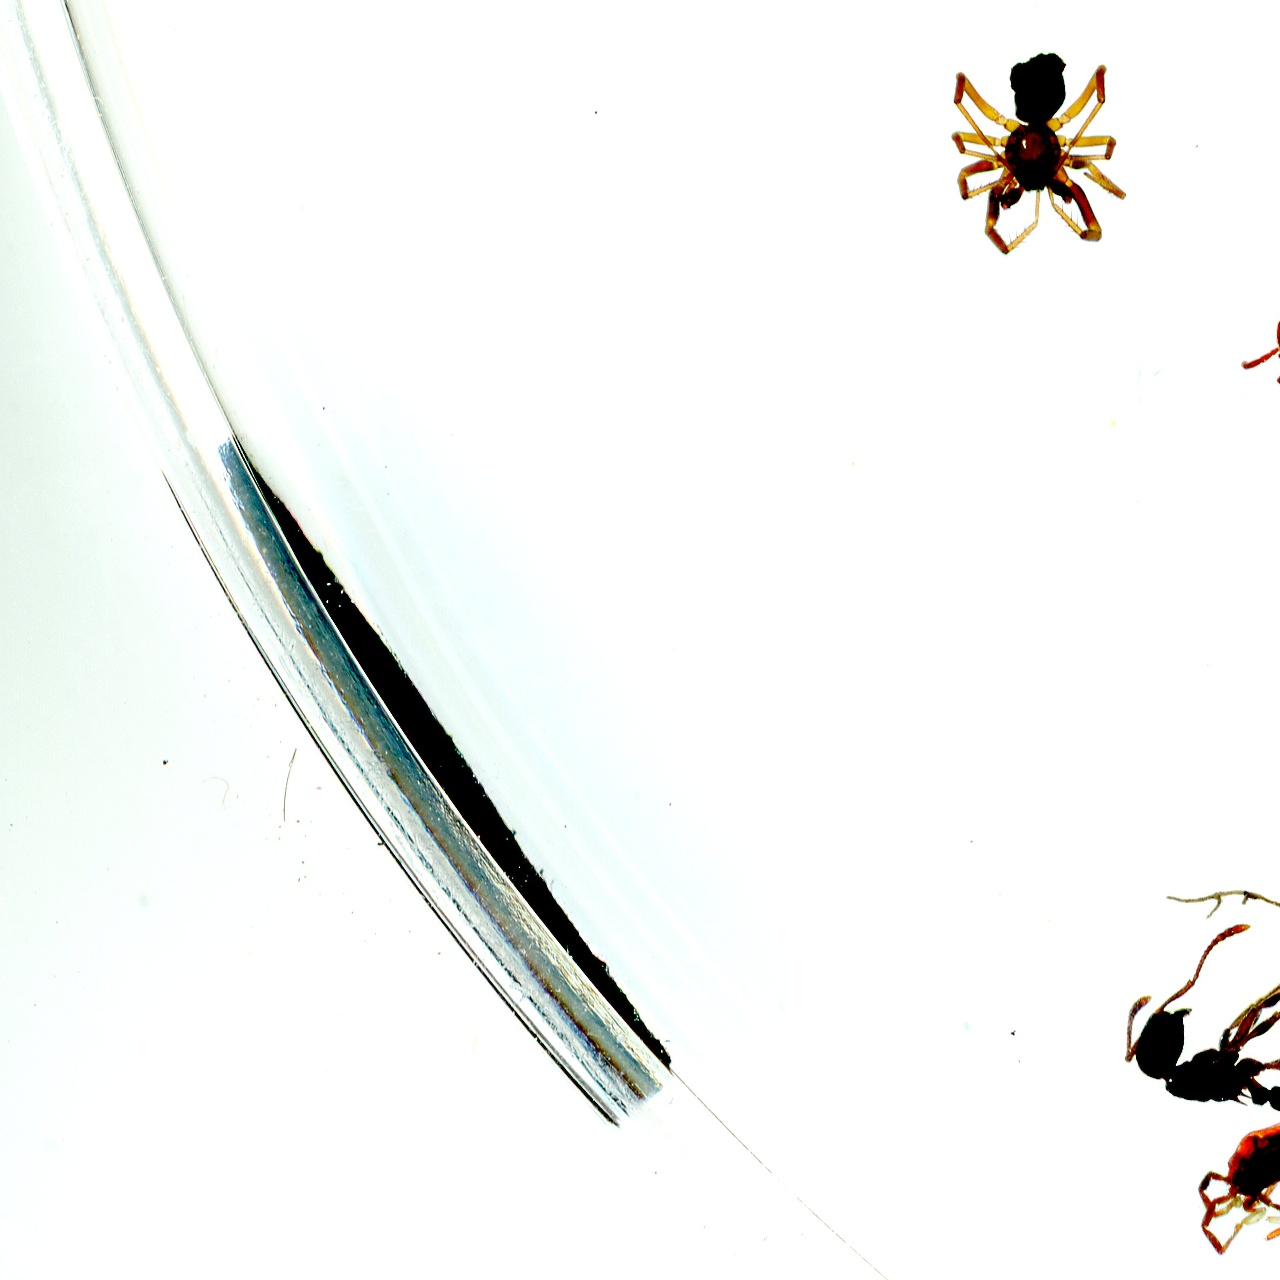arthropod: (938, 34, 1142, 275), (1114, 904, 1280, 1126), (1170, 1074, 1280, 1270), (1230, 285, 1280, 394)
